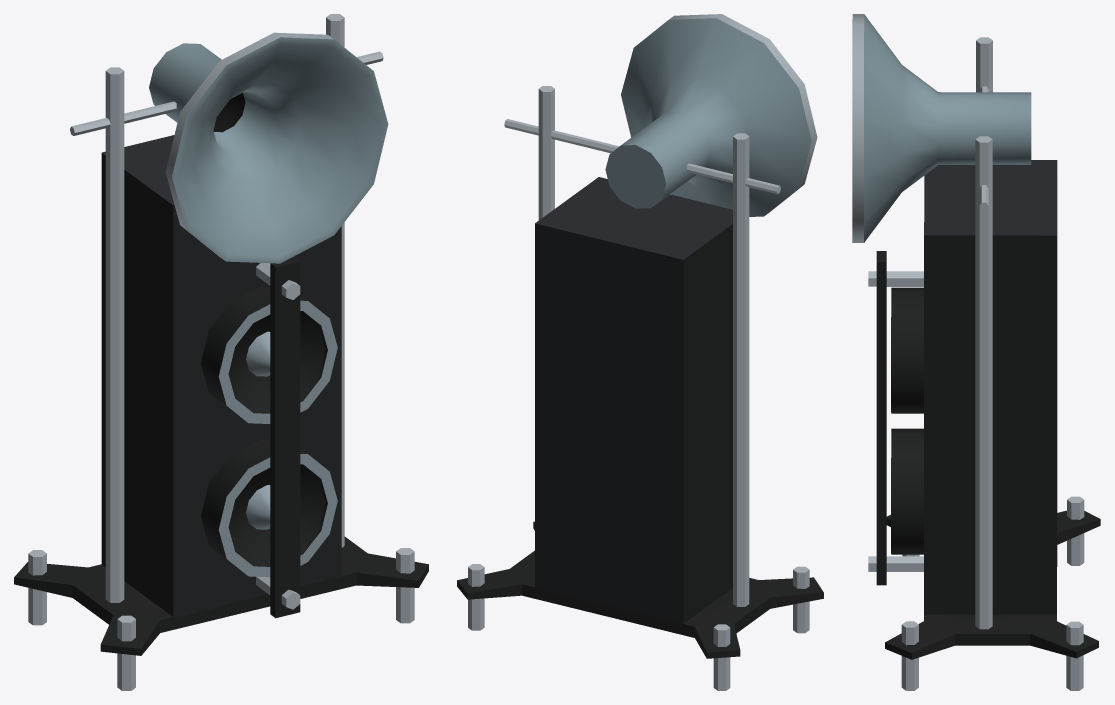
Rendered from SM_SpeakerTwoWithLoudspeaker_01.fbx.
3 views of the same model, side by side, from view 1: azimuth 30°, elevation 25°; view 2: azimuth 150°, elevation 25°; view 3: azimuth 270°, elevation 25° (orthographic). The views are drawn at different scales.
Parts seen in each view (by area): view 1: SM_SpeakerTwoWithLoudspeaker_01; view 2: SM_SpeakerTwoWithLoudspeaker_01; view 3: SM_SpeakerTwoWithLoudspeaker_01.
Boxes of the visible parts, x1,y1,x2,y2 form: SM_SpeakerTwoWithLoudspeaker_01: (14, 14, 428, 690); SM_SpeakerTwoWithLoudspeaker_01: (457, 14, 823, 690); SM_SpeakerTwoWithLoudspeaker_01: (852, 14, 1100, 690).
Bounding box in the file's own units: 59.43 × 111 × 42.31.
